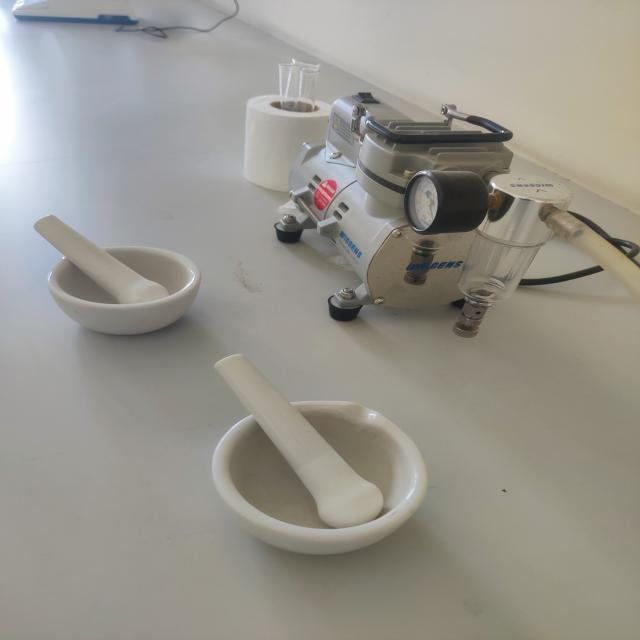Porcelain_Mortar Pestle: (183, 343, 459, 574), (9, 194, 217, 350)
